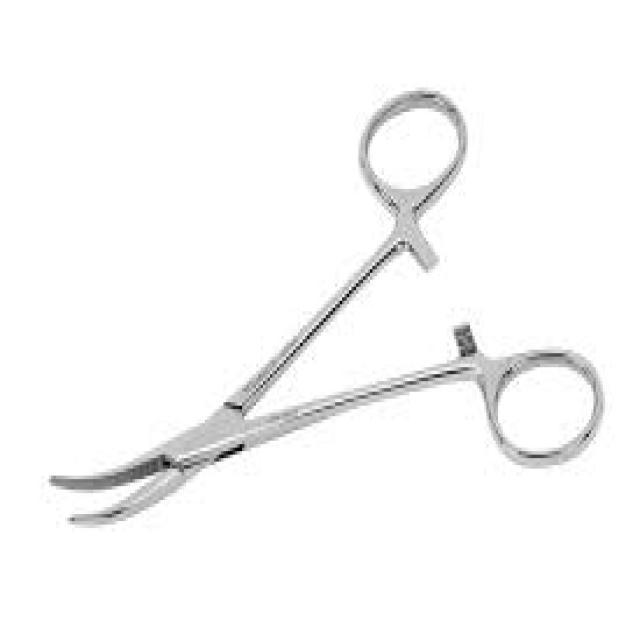Artery Forceps: (48, 89, 608, 532)
